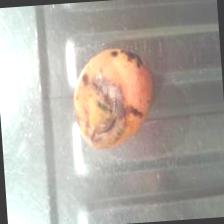Mango Rotten: (72, 44, 154, 148)
